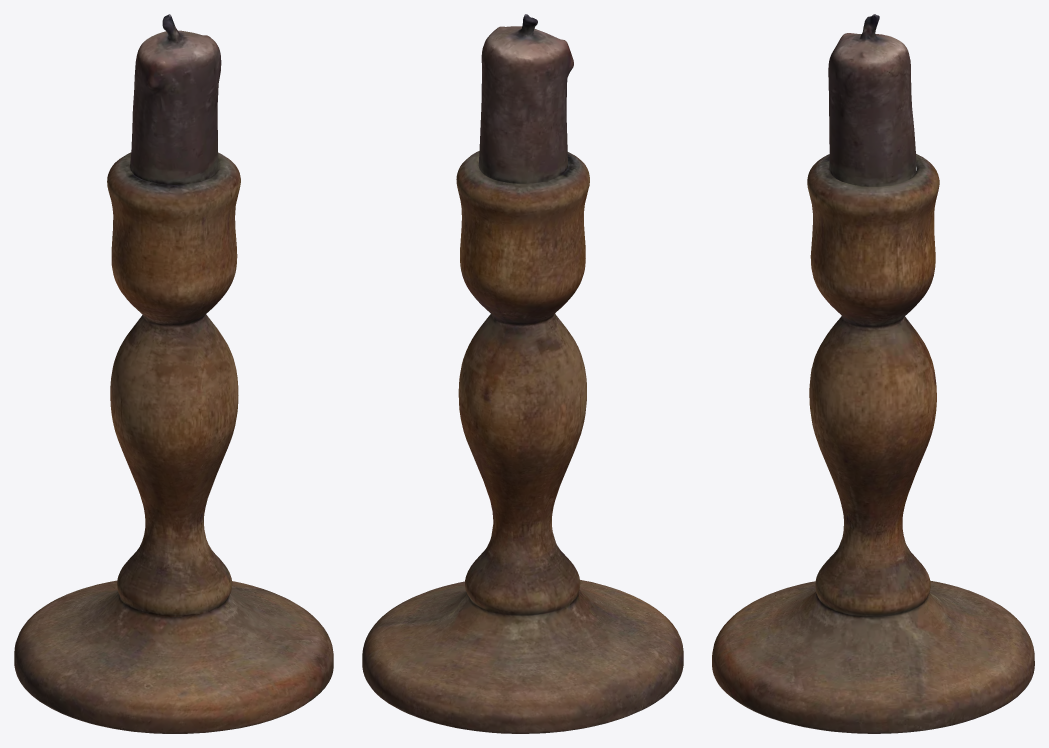
File: wooden_candlestick.glb
The picture shows the model from 3 angles, left to right: view 1: azimuth 30°, elevation 25°; view 2: azimuth 150°, elevation 25°; view 3: azimuth 270°, elevation 25°; orthographic projection.
Parts seen in each view (by area): view 1: wooden_candlestick; view 2: wooden_candlestick; view 3: wooden_candlestick.
Part boxes in pixels (x1,y1,x2,y2): wooden_candlestick: (14, 14, 333, 733); wooden_candlestick: (362, 14, 683, 733); wooden_candlestick: (712, 14, 1034, 733).
Size of the model in its own units: 0.0972 by 0.2197 by 0.0986.
1 material, 1 textured.
